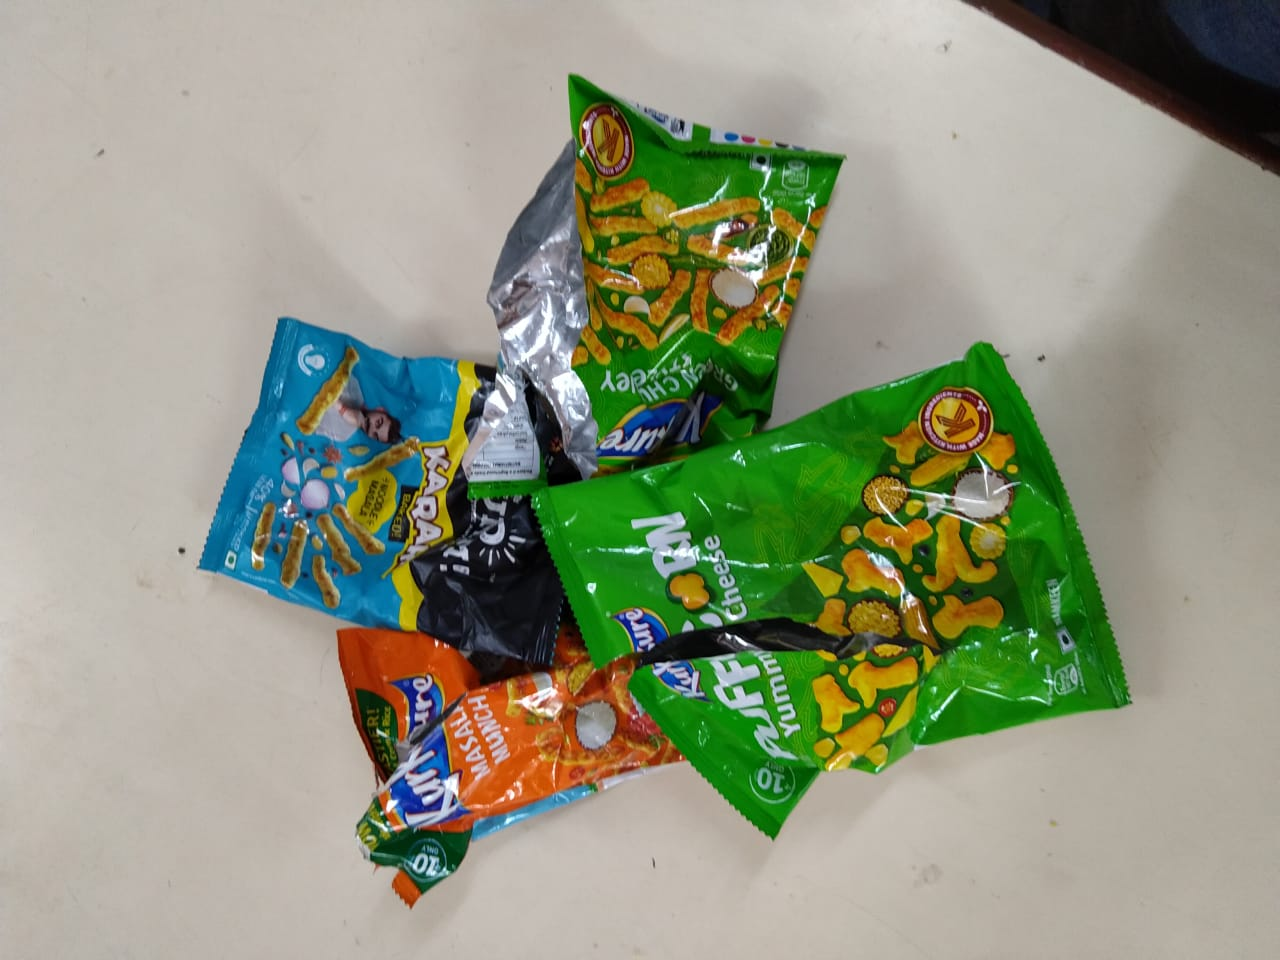kurkure: (385, 663, 479, 845), (585, 377, 713, 467), (611, 597, 703, 709), (555, 407, 697, 463), (385, 655, 463, 755), (625, 633, 711, 719), (395, 737, 481, 811), (603, 591, 681, 667)
plastic: (217, 95, 1133, 867)
tooyumm: (445, 453, 553, 583), (465, 505, 543, 563)
wrapper: (525, 397, 1151, 699), (167, 323, 659, 619), (503, 59, 821, 501), (383, 577, 623, 893)
